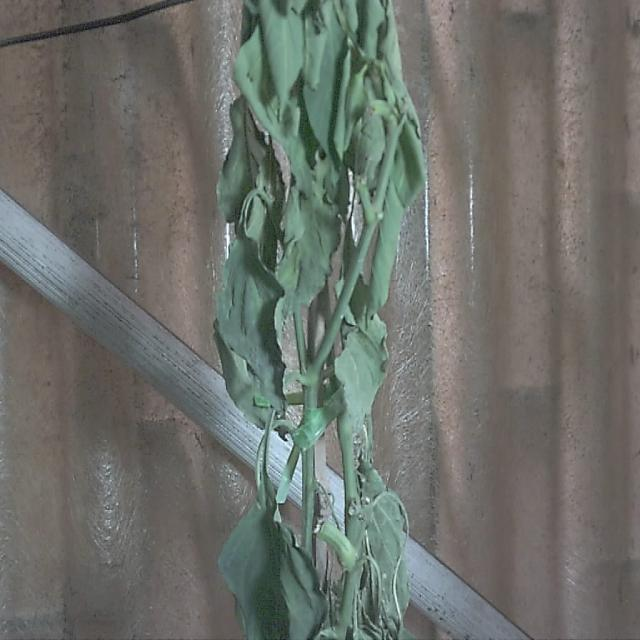Leaf: (222, 486, 326, 640), (216, 223, 288, 419)
